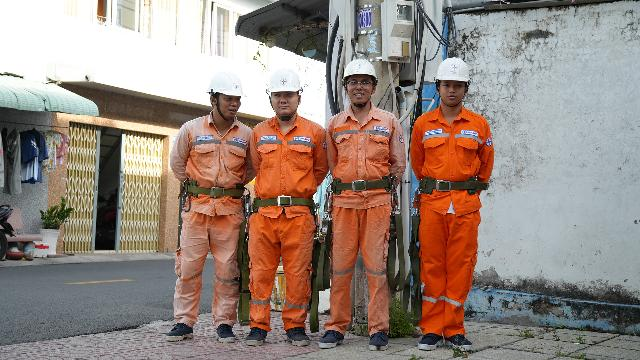harness: (176, 170, 253, 202), (410, 170, 490, 199), (239, 182, 316, 211), (316, 171, 395, 197)
helmet: (203, 70, 248, 101), (438, 52, 470, 88), (266, 69, 307, 95), (339, 57, 381, 82)
shoes: (237, 318, 273, 348), (162, 320, 202, 344), (207, 318, 237, 350), (279, 320, 311, 350), (319, 324, 348, 351), (367, 328, 392, 353), (419, 330, 443, 352), (447, 333, 475, 351)
